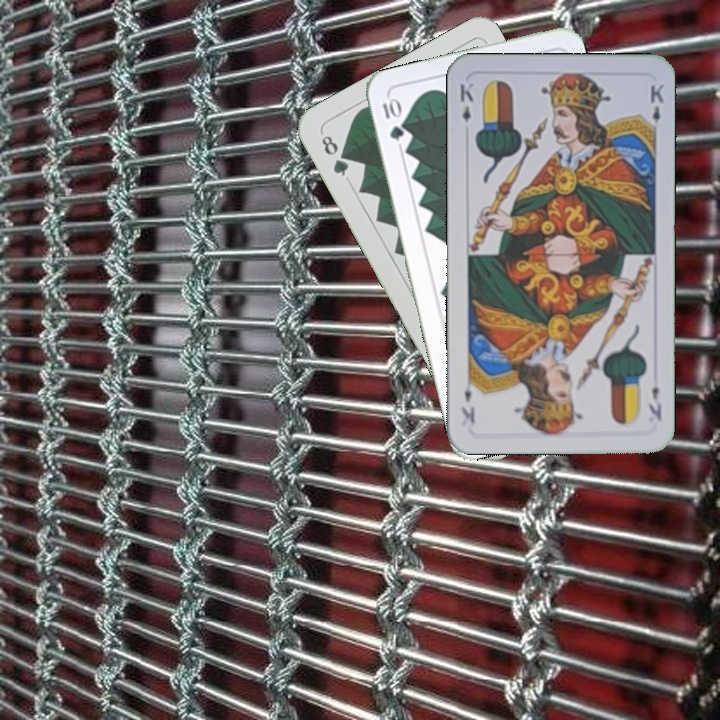EK: (456, 79, 476, 125), (644, 382, 664, 423)
G10: (378, 94, 406, 143)
G8: (317, 131, 352, 180)
